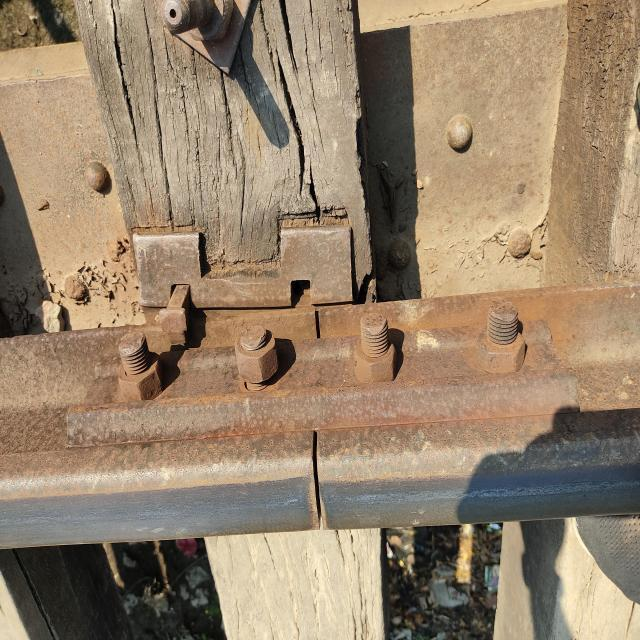squats_low: (348, 478, 640, 505), (258, 494, 302, 510)
